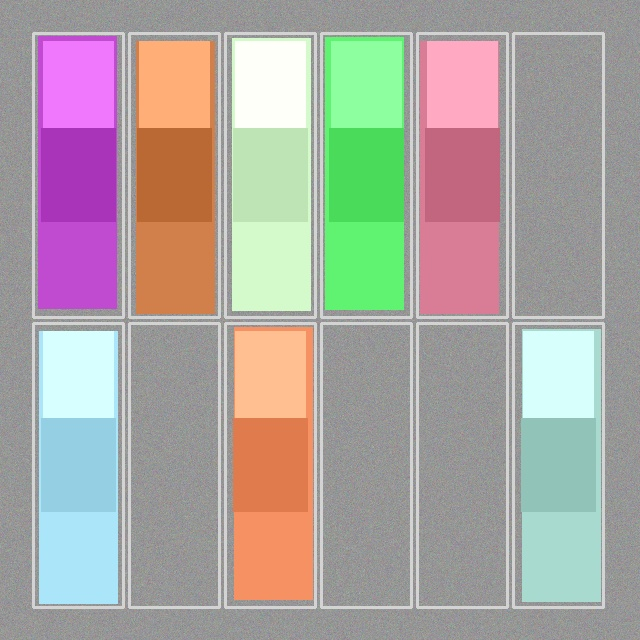space-empty: (515, 35, 601, 315), (131, 325, 217, 605), (323, 325, 409, 605), (419, 325, 505, 605)
space-occupied: (35, 35, 121, 315), (131, 35, 217, 315), (227, 35, 313, 315), (323, 35, 409, 315), (419, 35, 505, 315), (35, 325, 121, 605), (227, 325, 313, 605), (515, 325, 601, 605)
